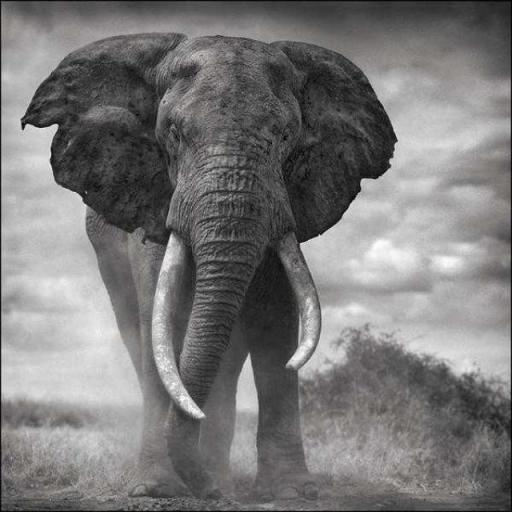Elephant: (20, 31, 398, 501)
